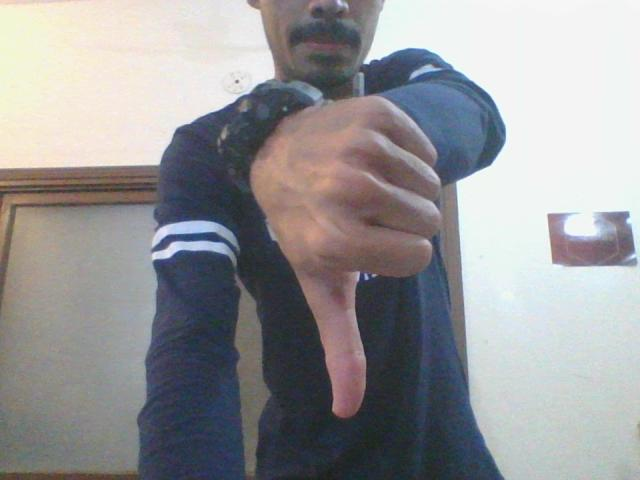thumbs-down: (276, 99, 449, 419)
